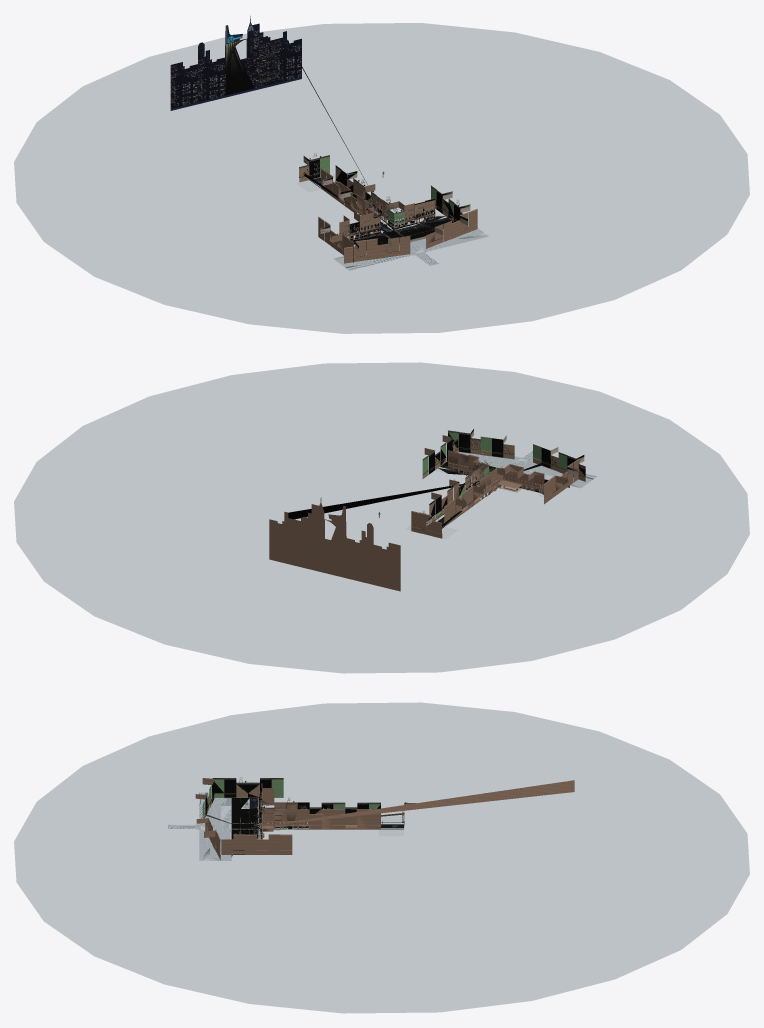
The model's file is street_felipe.glb.
3 renders of one model, top to bottom at view 1: azimuth 30°, elevation 25°; view 2: azimuth 150°, elevation 25°; view 3: azimuth 270°, elevation 25°, orthographic.
Visible parts, largest first — view 1: Material3 (×6), Material2 (×2); view 2: Material3 (×7), Material2 (×2); view 3: Material3 (×5), Material2 (×2).
Part boxes in pixels (left/top/right/bottom): Material3 (×6): left=14, top=16, right=749, bottom=333; Material2 (×2): left=299, top=155, right=488, bottom=270; Material3 (×7): left=14, top=362, right=749, bottom=673; Material2 (×2): left=412, top=430, right=596, bottom=531; Material3 (×5): left=14, top=702, right=749, bottom=1013; Material2 (×2): left=168, top=778, right=405, bottom=860.
Bounding box in the file's own units: 7445 × 1144 × 7445.
Materials: 28 (19 with a texture image).
